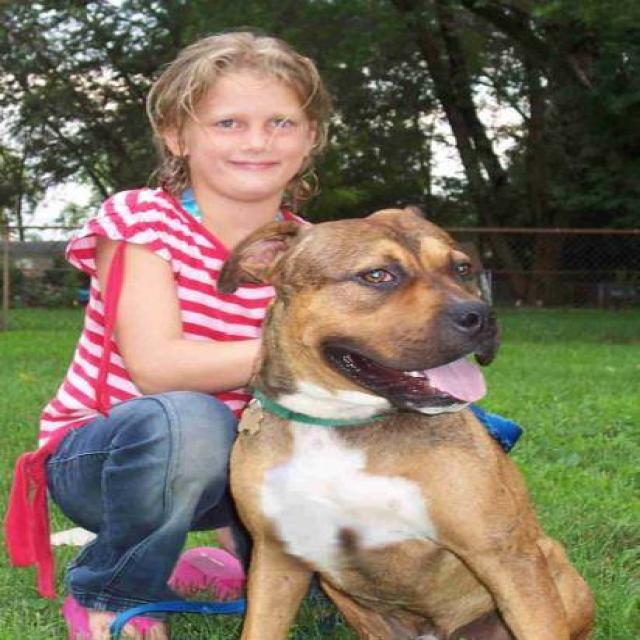dog: (208, 202, 600, 638)
